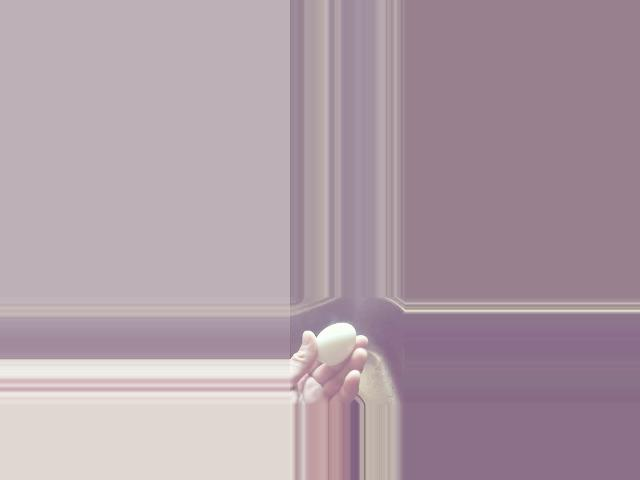egg: (315, 323, 355, 365)
